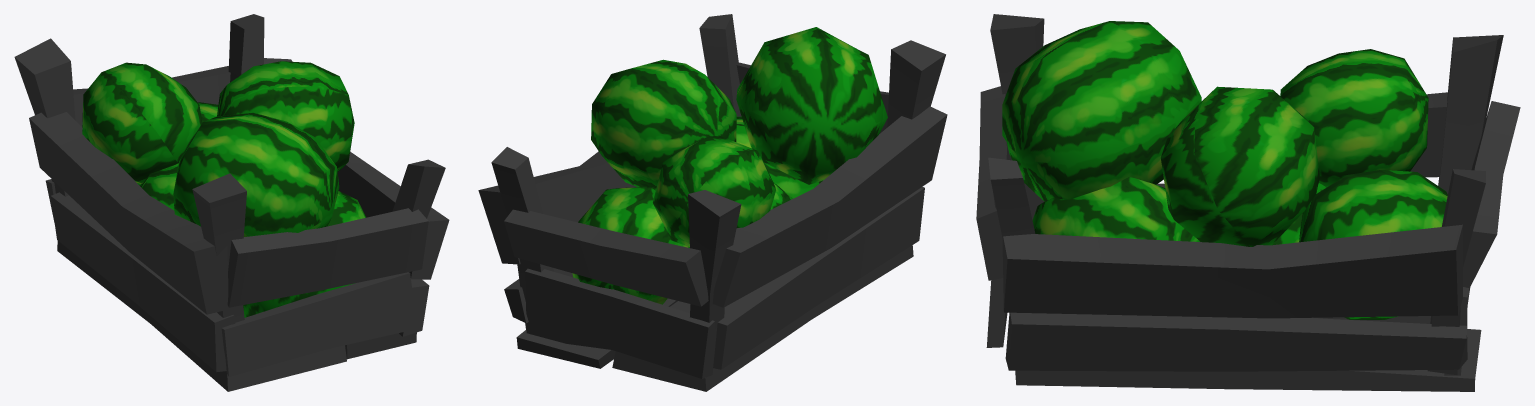
The model's file is SM_PROP_crate_02.FBX.
The picture shows the model from 3 angles, left to right: view 1: azimuth 30°, elevation 25°; view 2: azimuth 150°, elevation 25°; view 3: azimuth 270°, elevation 25°; orthographic projection. The views are drawn at different scales.
Parts seen in each view (by area): view 1: SM_PROP_crate_02; view 2: SM_PROP_crate_02; view 3: SM_PROP_crate_02.
Boxes of the visible parts, <box> form: SM_PROP_crate_02: <box>14,14,449,391</box>; SM_PROP_crate_02: <box>478,14,947,391</box>; SM_PROP_crate_02: <box>976,14,1520,391</box>.
Size of the model in its own units: 64.5 by 89.13 by 51.02.
